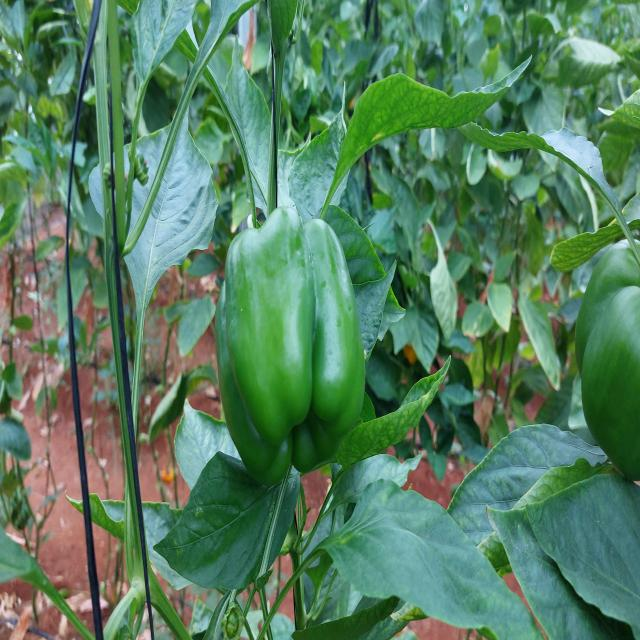Green--Not-ready-to-harvest: (206, 214, 374, 488), (573, 243, 639, 485)
